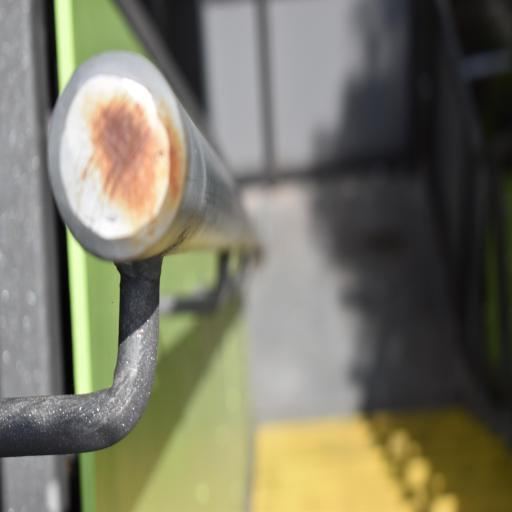segmentation: (59, 74, 183, 240)
